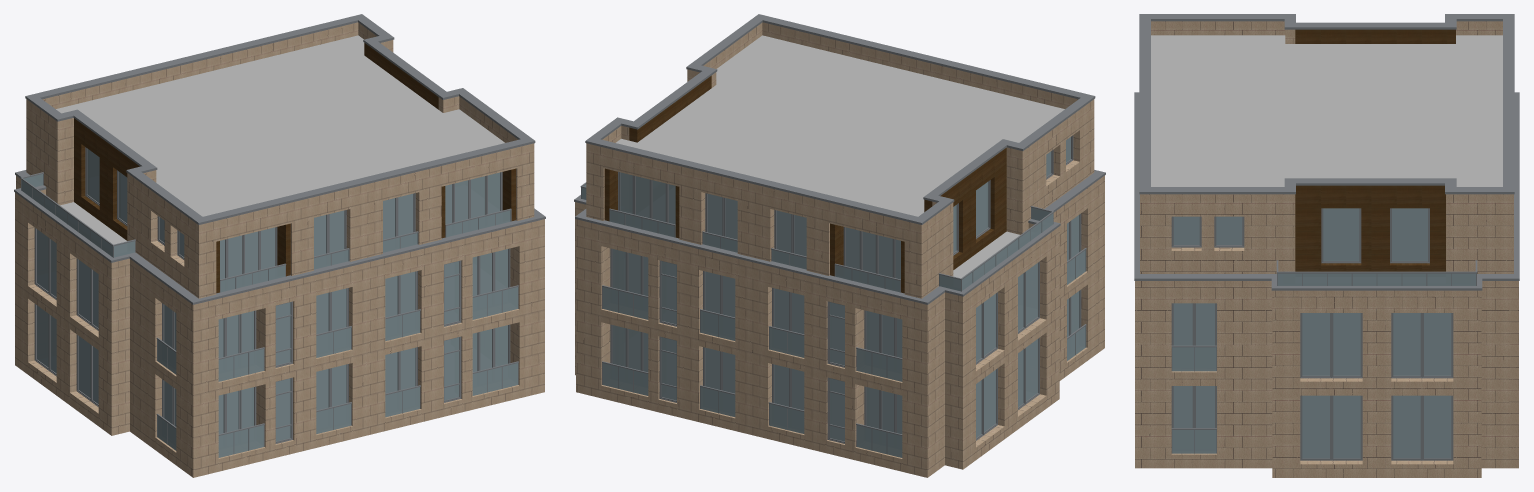
Rendered from school.gltf.
The picture shows the model from 3 angles, left to right: view 1: azimuth 30°, elevation 25°; view 2: azimuth 150°, elevation 25°; view 3: azimuth 270°, elevation 25°; orthographic projection. The views are drawn at different scales.
Visible parts, largest first — view 1: 住宅楼05; view 2: 住宅楼05; view 3: 住宅楼05.
Boxes of the visible parts, x1,y1,x2,y2 form: 住宅楼05: [14, 14, 545, 477]; 住宅楼05: [574, 14, 1105, 477]; 住宅楼05: [1134, 14, 1519, 477].
Size of the model in its own units: 19.26 by 11.9 by 15.26.
Materials: 5 (2 with a texture image).
